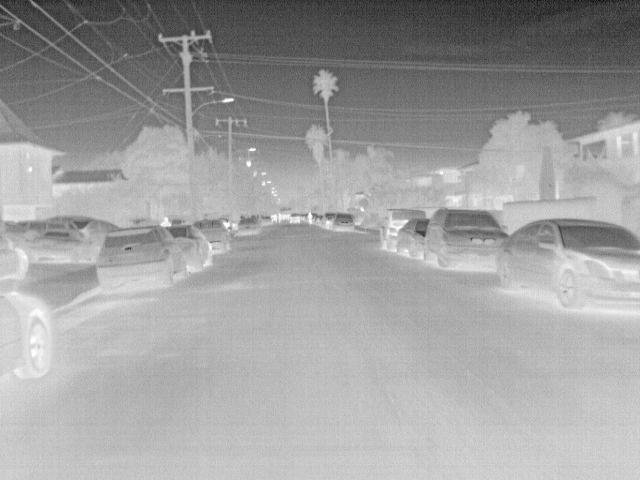car: (497, 219, 640, 312), (94, 228, 188, 293), (425, 206, 508, 272), (1, 288, 56, 385), (162, 223, 214, 274), (31, 230, 97, 264), (379, 207, 418, 248), (396, 217, 433, 258), (1, 233, 29, 282), (75, 220, 122, 248), (191, 220, 230, 253), (235, 216, 262, 236), (329, 214, 356, 232), (321, 212, 338, 229), (288, 212, 303, 224)
person: (159, 215, 174, 227), (308, 211, 315, 225)
